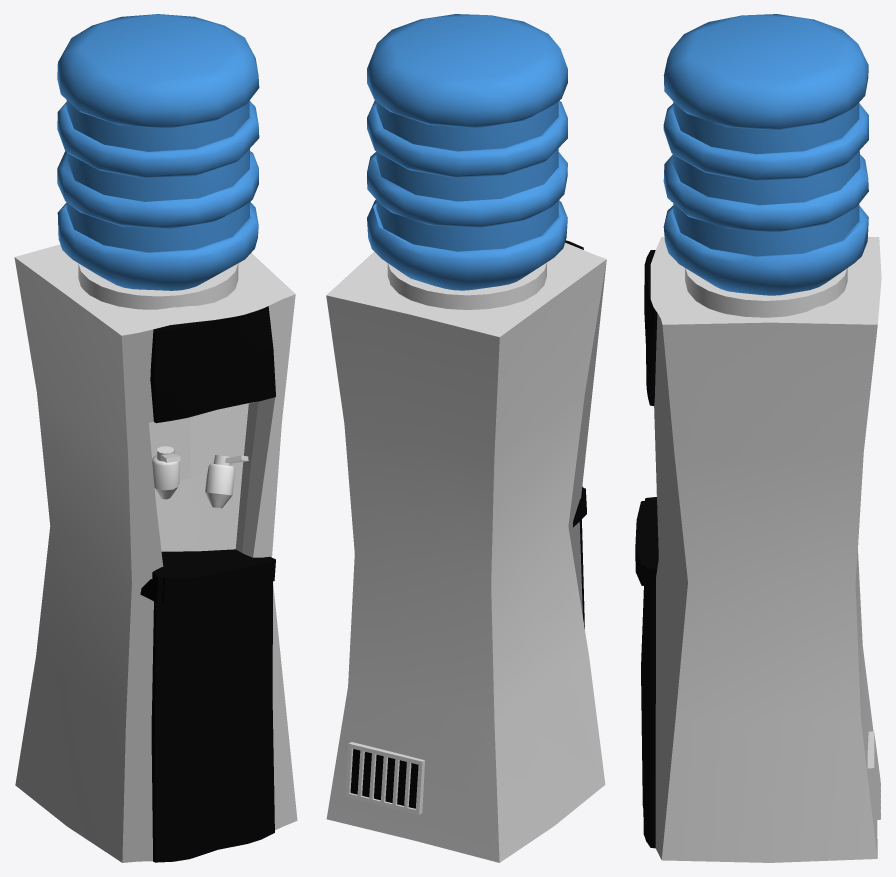
Rendered from destroyed water machine.fbx.
3 renders of one model, left to right at view 1: azimuth 30°, elevation 25°; view 2: azimuth 150°, elevation 25°; view 3: azimuth 270°, elevation 25°, orthographic.
Visible parts, largest first — view 1: Cube.011, Cylinder.004, Cube.008, Cylinder.005, Cylinder.011, Cylinder.007; view 2: Cube.011, Cylinder.004, Cylinder.005, Cube.007, Cube.006; view 3: Cube.011, Cylinder.004, Cylinder.005, Cube.008, Cube.007.
Part boxes in pixels (x1,y1,x2,y2): Cube.011: (14,244,297,862); Cylinder.004: (57,14,259,290); Cube.008: (140,549,275,602); Cylinder.005: (78,263,238,309); Cylinder.011: (205,463,235,508); Cylinder.007: (152,455,179,499); Cube.011: (326,240,606,862); Cylinder.004: (367,14,567,290); Cylinder.005: (387,262,546,309); Cube.007: (345,742,424,814); Cube.006: (350,749,418,808); Cube.011: (641,237,881,862); Cylinder.004: (663,14,868,295); Cylinder.005: (685,268,847,317); Cube.008: (635,497,658,588); Cube.007: (867,731,880,820).
Bounding box in the file's own units: 207 × 834 × 240.
